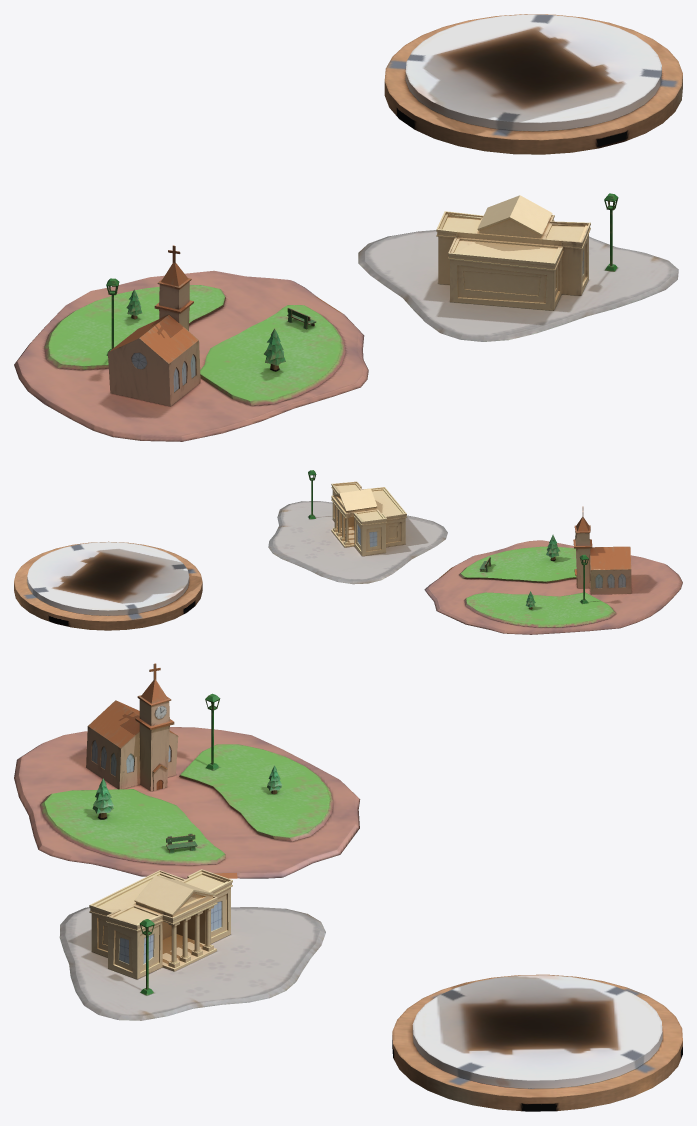
File: monument.glb
The picture shows the model from 3 angles, top to bottom: view 1: azimuth 30°, elevation 25°; view 2: azimuth 150°, elevation 25°; view 3: azimuth 270°, elevation 25°; orthographic projection. The views are drawn at different scales.
Parts seen in each view (by area): view 1: MONUMENTS-SIDE.001; view 2: MONUMENTS-SIDE.001; view 3: MONUMENTS-SIDE.001.
Part boxes in pixels (box(x1,y1,x2,y2)): MONUMENTS-SIDE.001: box(14, 14, 682, 441); MONUMENTS-SIDE.001: box(14, 470, 682, 634); MONUMENTS-SIDE.001: box(14, 663, 682, 1111).
Size of the model in its own units: 26.04 by 3.96 by 19.04.
1 material, 1 textured.
